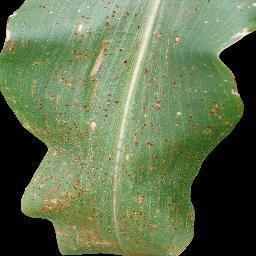Corn_Common_Rust: (0, 0, 178, 254), (177, 68, 246, 256), (216, 25, 256, 62), (227, 4, 256, 14), (182, 0, 204, 13), (197, 0, 217, 5)
